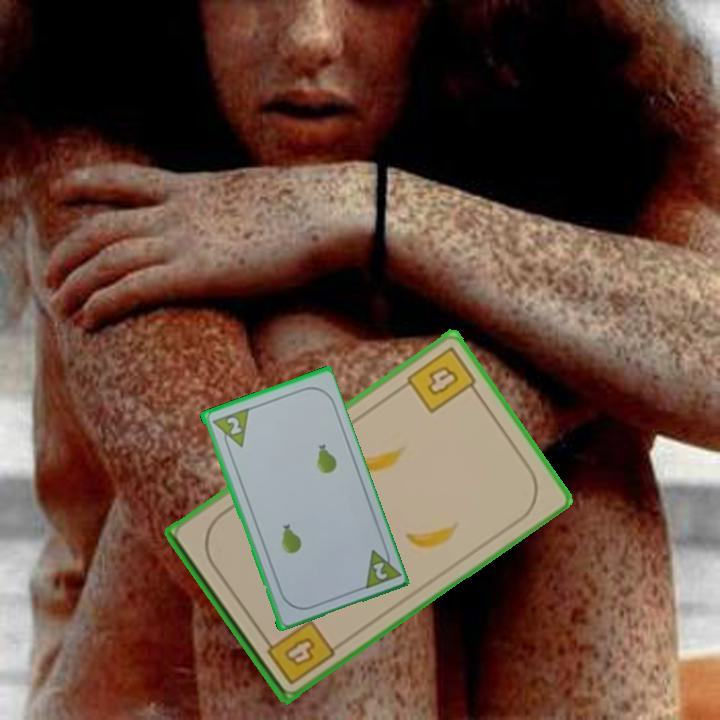2p: (358, 541, 402, 592), (222, 413, 244, 437)
4b: (403, 342, 483, 416), (258, 616, 338, 687)
